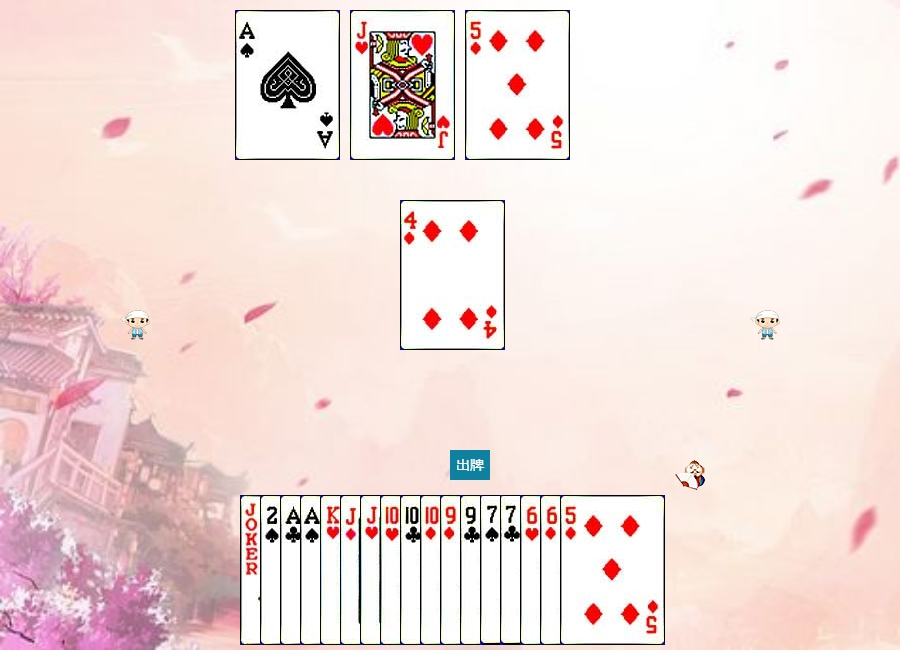10~1: (420, 495, 525, 645)
10~2: (400, 495, 505, 645)
10~3: (380, 495, 485, 645)
11~1: (340, 495, 445, 645)
11~3: (350, 10, 455, 160), (360, 495, 465, 645)
13~3: (320, 495, 425, 645)
14~2: (280, 495, 385, 645)
14~4: (235, 10, 340, 160), (300, 495, 405, 645)
15~4: (260, 495, 365, 645)
18~4: (240, 495, 345, 645)
4~1: (400, 200, 505, 350)
5~1: (465, 10, 570, 160), (560, 495, 665, 645)
6~1: (540, 495, 645, 645)
6~3: (520, 495, 625, 645)
7~2: (500, 495, 605, 645)
7~4: (480, 495, 585, 645)
9~1: (440, 495, 545, 645)
9~2: (460, 495, 565, 645)
